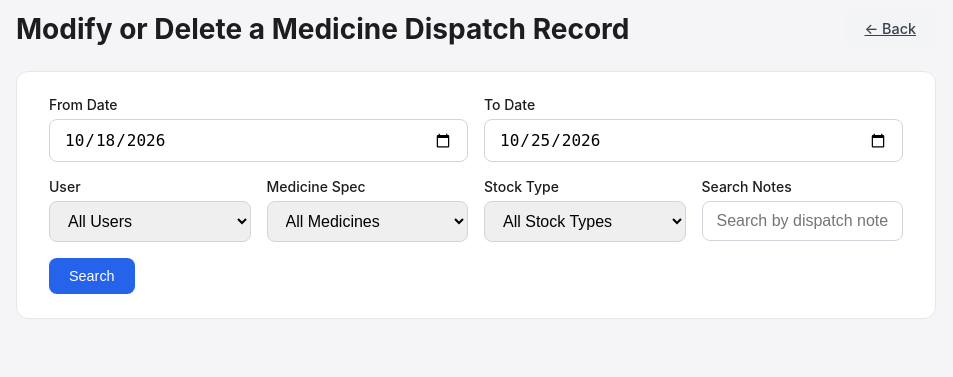
AdminEditDispatch — search › shows empty state when no records found
The image size is (953, 377).
Click the button "Search" at (92, 276), box [49,258,135,294]
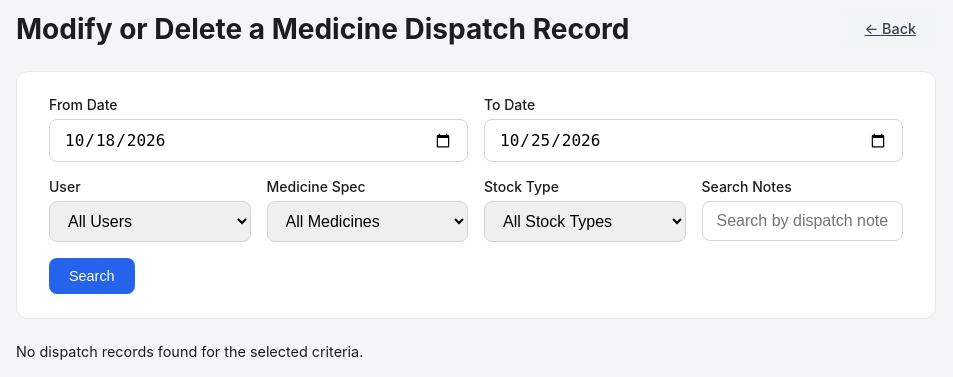
Check: the text "No dispatch records found for the selected criteria." is shown, box [16,343,363,360]
